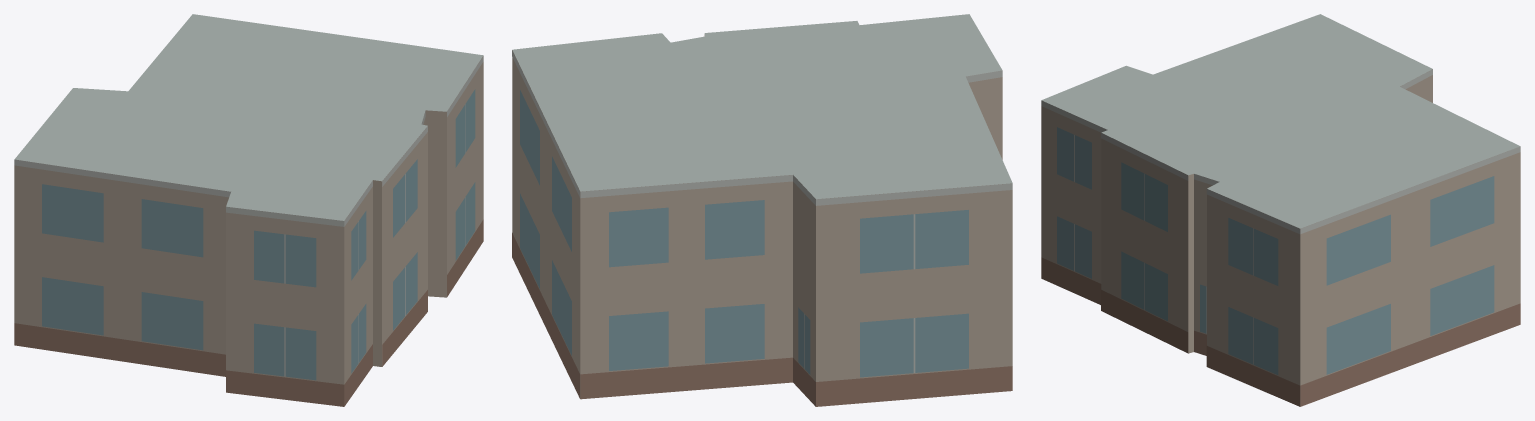
Rendered from survey-upis-32625107.glb.
3 renders of one model, left to right at view 1: azimuth 30°, elevation 25°; view 2: azimuth 150°, elevation 25°; view 3: azimuth 270°, elevation 25°, orthographic. The views are drawn at different scales.
Visible parts, largest first — view 1: survey-upis-32625107.tmp; view 2: survey-upis-32625107.tmp; view 3: survey-upis-32625107.tmp.
Boxes of the visible parts, x1=… form: survey-upis-32625107.tmp: x1=14, y1=14, x2=483, y2=406; survey-upis-32625107.tmp: x1=512, y1=14, x2=1012, y2=406; survey-upis-32625107.tmp: x1=1041, y1=14, x2=1520, y2=406.
Size of the model in its own units: 19.63 by 7.6 by 18.53.
